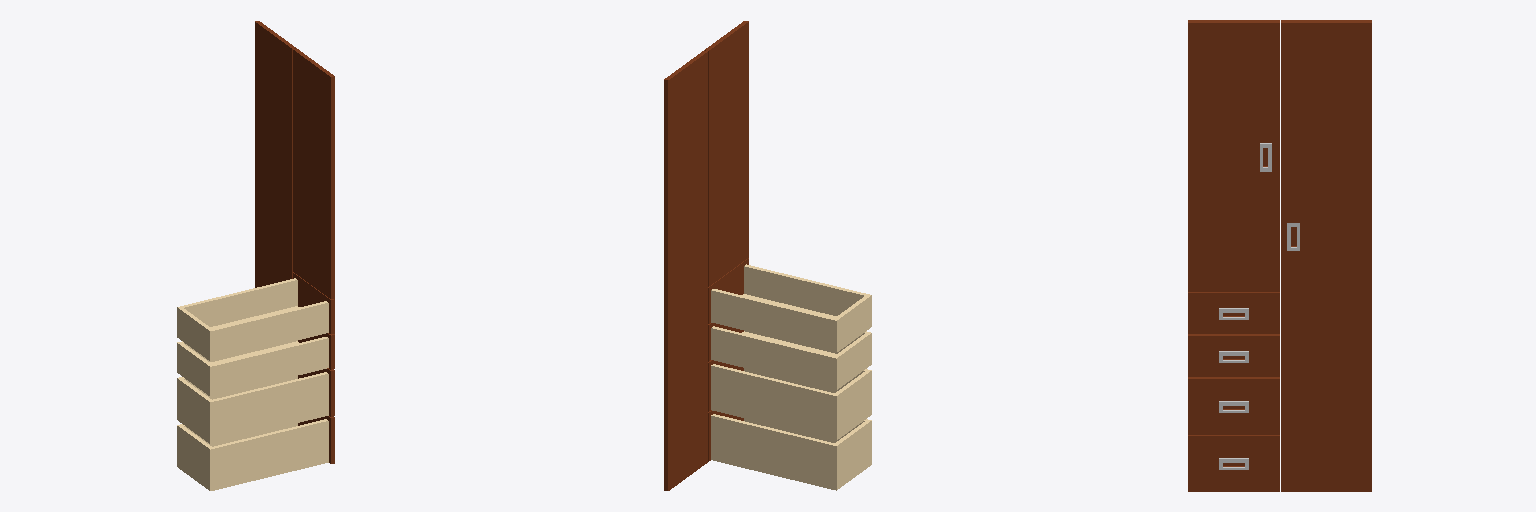
URDF robot description (square-600-closet):
<?xml version="1.0"?>
<robot name="square-600-closet"
       xmlns:xi="http://www.w3.org/2001/XInclude"
       xmlns:gazebo="http://playerstage.sourceforge.net/gazebo/xmlschema/#gz"
       xmlns:model="http://playerstage.sourceforge.net/gazebo/xmlschema/#model"
       xmlns:sensor="http://playerstage.sourceforge.net/gazebo/xmlschema/#sensor"
       xmlns:body="http://playerstage.sourceforge.net/gazebo/xmlschema/#body"
       xmlns:geom="http://playerstage.sourceforge.net/gazebo/xmlschema/#geom"
       xmlns:joint="http://playerstage.sourceforge.net/gazebo/xmlschema/#joint"
       xmlns:interface="http://playerstage.sourceforge.net/gazebo/xmlschema/#interface"
       xmlns:rendering="http://playerstage.sourceforge.net/gazebo/xmlschema/#rendering"
       xmlns:renderable="http://playerstage.sourceforge.net/gazebo/xmlschema/#renderable"
       xmlns:controller="http://playerstage.sourceforge.net/gazebo/xmlschema/#controller"
       xmlns:physics="http://playerstage.sourceforge.net/gazebo/xmlschema/#physics">
  <gazebo>
    <static>false</static>
  </gazebo>
  <link name="ROOT_link">
    <visual>
      <origin xyz="0 0 0" rpy="0 -0 0"/>
      <geometry>
        <mesh filename="model://square-600-closet/meshes/ROOT_link_mesh.dae" scale="1 1 1" />
      </geometry>
    </visual>
    <collision>
      <origin xyz="0 0 0" rpy="0 -0 0"/>
      <geometry>
        <mesh filename="model://square-600-closet/meshes/ROOT_link_mesh.dae" scale="1 1 1" />
      </geometry>
    </collision>
    <inertial>
      <mass value="0.001" />
      <origin xyz="0 0 0" rpy="0 -0 0"/>
      <inertia ixx="1e-09" ixy="0" ixz="0" iyy="1e-09" iyz="0" izz="1e-09"/>
    </inertial>
  </link>
  <gazebo reference="ROOT_link">
    <mu1>0.9</mu1>
    <mu2>0.9</mu2>
  </gazebo>
  <link name="SQUARE-600-CLOSET-BODYSET6_link">
    <visual>
      <origin xyz="0.281 -0.285 0.738" rpy="0 -0 0"/>
      <geometry>
        <mesh filename="model://square-600-closet/meshes/SQUARE-600-CLOSET-BODYSET6_link_mesh.dae" scale="1 1 1" />
      </geometry>
    </visual>
    <collision>
      <origin xyz="0.281 -0.285 0.738" rpy="0 -0 0"/>
      <geometry>
        <mesh filename="model://square-600-closet/meshes/SQUARE-600-CLOSET-BODYSET6_link_mesh.dae" scale="1 1 1" />
      </geometry>
    </collision>
    <inertial>
      <mass value="0.001" />
      <origin xyz="0 0 0" rpy="0 -0 0"/>
      <inertia ixx="1e-09" ixy="0" ixz="0" iyy="1e-09" iyz="0" izz="1e-09"/>
    </inertial>
  </link>
  <gazebo reference="SQUARE-600-CLOSET-BODYSET6_link">
    <mu1>0.9</mu1>
    <mu2>0.9</mu2>
  </gazebo>
  <link name="SQUARE-600-CLOSET-BODYSET7_link">
    <visual>
      <origin xyz="0.281 0.285 0.034" rpy="0 -0 0"/>
      <geometry>
        <mesh filename="model://square-600-closet/meshes/SQUARE-600-CLOSET-BODYSET7_link_mesh.dae" scale="1 1 1" />
      </geometry>
    </visual>
    <collision>
      <origin xyz="0.281 0.285 0.034" rpy="0 -0 0"/>
      <geometry>
        <mesh filename="model://square-600-closet/meshes/SQUARE-600-CLOSET-BODYSET7_link_mesh.dae" scale="1 1 1" />
      </geometry>
    </collision>
    <inertial>
      <mass value="0.001" />
      <origin xyz="0 0 0" rpy="0 -0 0"/>
      <inertia ixx="1e-09" ixy="0" ixz="0" iyy="1e-09" iyz="0" izz="1e-09"/>
    </inertial>
  </link>
  <gazebo reference="SQUARE-600-CLOSET-BODYSET7_link">
    <mu1>0.9</mu1>
    <mu2>0.9</mu2>
  </gazebo>
  <link name="SQUARE-600-CLOSET-BODYSET5_link">
    <visual>
      <origin xyz="0.008 -0.147 0.652" rpy="0 -0 0"/>
      <geometry>
        <mesh filename="model://square-600-closet/meshes/SQUARE-600-CLOSET-BODYSET5_link_mesh.dae" scale="1 1 1" />
      </geometry>
    </visual>
    <collision>
      <origin xyz="0.008 -0.147 0.652" rpy="0 -0 0"/>
      <geometry>
        <mesh filename="model://square-600-closet/meshes/SQUARE-600-CLOSET-BODYSET5_link_mesh.dae" scale="1 1 1" />
      </geometry>
    </collision>
    <inertial>
      <mass value="0.001" />
      <origin xyz="0 0 0" rpy="0 -0 0"/>
      <inertia ixx="1e-09" ixy="0" ixz="0" iyy="1e-09" iyz="0" izz="1e-09"/>
    </inertial>
  </link>
  <gazebo reference="SQUARE-600-CLOSET-BODYSET5_link">
    <mu1>0.9</mu1>
    <mu2>0.9</mu2>
  </gazebo>
  <link name="SQUARE-600-CLOSET-BODYSET4_link">
    <visual>
      <origin xyz="0.008 -0.147 0.501" rpy="0 -0 0"/>
      <geometry>
        <mesh filename="model://square-600-closet/meshes/SQUARE-600-CLOSET-BODYSET4_link_mesh.dae" scale="1 1 1" />
      </geometry>
    </visual>
    <collision>
      <origin xyz="0.008 -0.147 0.501" rpy="0 -0 0"/>
      <geometry>
        <mesh filename="model://square-600-closet/meshes/SQUARE-600-CLOSET-BODYSET4_link_mesh.dae" scale="1 1 1" />
      </geometry>
    </collision>
    <inertial>
      <mass value="0.001" />
      <origin xyz="0 0 0" rpy="0 -0 0"/>
      <inertia ixx="1e-09" ixy="0" ixz="0" iyy="1e-09" iyz="0" izz="1e-09"/>
    </inertial>
  </link>
  <gazebo reference="SQUARE-600-CLOSET-BODYSET4_link">
    <mu1>0.9</mu1>
    <mu2>0.9</mu2>
  </gazebo>
  <link name="SQUARE-600-CLOSET-BODYSET3_link">
    <visual>
      <origin xyz="0.008 -0.147 0.324" rpy="0 -0 0"/>
      <geometry>
        <mesh filename="model://square-600-closet/meshes/SQUARE-600-CLOSET-BODYSET3_link_mesh.dae" scale="1 1 1" />
      </geometry>
    </visual>
    <collision>
      <origin xyz="0.008 -0.147 0.324" rpy="0 -0 0"/>
      <geometry>
        <mesh filename="model://square-600-closet/meshes/SQUARE-600-CLOSET-BODYSET3_link_mesh.dae" scale="1 1 1" />
      </geometry>
    </collision>
    <inertial>
      <mass value="0.001" />
      <origin xyz="0 0 0" rpy="0 -0 0"/>
      <inertia ixx="1e-09" ixy="0" ixz="0" iyy="1e-09" iyz="0" izz="1e-09"/>
    </inertial>
  </link>
  <gazebo reference="SQUARE-600-CLOSET-BODYSET3_link">
    <mu1>0.9</mu1>
    <mu2>0.9</mu2>
  </gazebo>
  <link name="SQUARE-600-CLOSET-BODYSET2_link">
    <visual>
      <origin xyz="0.008 -0.147 0.123" rpy="0 -0 0"/>
      <geometry>
        <mesh filename="model://square-600-closet/meshes/SQUARE-600-CLOSET-BODYSET2_link_mesh.dae" scale="1 1 1" />
      </geometry>
    </visual>
    <collision>
      <origin xyz="0.008 -0.147 0.123" rpy="0 -0 0"/>
      <geometry>
        <mesh filename="model://square-600-closet/meshes/SQUARE-600-CLOSET-BODYSET2_link_mesh.dae" scale="1 1 1" />
      </geometry>
    </collision>
    <inertial>
      <mass value="0.001" />
      <origin xyz="0 0 0" rpy="0 -0 0"/>
      <inertia ixx="1e-09" ixy="0" ixz="0" iyy="1e-09" iyz="0" izz="1e-09"/>
    </inertial>
  </link>
  <gazebo reference="SQUARE-600-CLOSET-BODYSET2_link">
    <mu1>0.9</mu1>
    <mu2>0.9</mu2>
  </gazebo>
  <joint name="DOOR-LEFT" type="revolute">
    <parent link="ROOT_link"/>
    <child  link="SQUARE-600-CLOSET-BODYSET6_link"/>
    <origin xyz="0.281 -0.285 0.738" rpy="0 -0 0 "/>
    <axis   xyz="0 0 -1"/>
    <limit lower="0" upper="1.5708" effort="100" velocity="0.5" />
    <dynamics damping="0.2" friction="0" />
  </joint>
  <transmission type="pr2_mechanism_model/SimpleTransmission" name="DOOR-LEFT_trans" >
    <actuator name="DOOR-LEFT_motor" />
    <joint name="DOOR-LEFT" />
    <mechanicalReduction>1</mechanicalReduction>
  </transmission>
  <gazebo reference="DOOR-LEFT">
    <cfmDamping>0.4</cfmDamping>
  </gazebo>
  <joint name="DOOR-RIGHT" type="revolute">
    <parent link="ROOT_link"/>
    <child  link="SQUARE-600-CLOSET-BODYSET7_link"/>
    <origin xyz="0.281 0.285 0.034" rpy="0 -0 0 "/>
    <axis   xyz="0 0 1"/>
    <limit lower="0" upper="1.5708" effort="100" velocity="0.5" />
    <dynamics damping="0.2" friction="0" />
  </joint>
  <transmission type="pr2_mechanism_model/SimpleTransmission" name="DOOR-RIGHT_trans" >
    <actuator name="DOOR-RIGHT_motor" />
    <joint name="DOOR-RIGHT" />
    <mechanicalReduction>1</mechanicalReduction>
  </transmission>
  <gazebo reference="DOOR-RIGHT">
    <cfmDamping>0.4</cfmDamping>
  </gazebo>
  <joint name="DRAWER1" type="prismatic">
    <parent link="ROOT_link"/>
    <child  link="SQUARE-600-CLOSET-BODYSET5_link"/>
    <origin xyz="0.008 -0.147 0.652" rpy="0 -0 0 "/>
    <axis   xyz="1 0 0"/>
    <limit lower="0" upper="0.564" effort="100" velocity="0.01" />
    <dynamics damping="0.2" friction="0" />
  </joint>
  <transmission type="pr2_mechanism_model/SimpleTransmission" name="DRAWER1_trans" >
    <actuator name="DRAWER1_motor" />
    <joint name="DRAWER1" />
    <mechanicalReduction>1</mechanicalReduction>
  </transmission>
  <gazebo reference="DRAWER1">
    <cfmDamping>0.4</cfmDamping>
  </gazebo>
  <joint name="DRAWER2" type="prismatic">
    <parent link="ROOT_link"/>
    <child  link="SQUARE-600-CLOSET-BODYSET4_link"/>
    <origin xyz="0.008 -0.147 0.501" rpy="0 -0 0 "/>
    <axis   xyz="1 0 0"/>
    <limit lower="0" upper="0.564" effort="100" velocity="0.01" />
    <dynamics damping="0.2" friction="0" />
  </joint>
  <transmission type="pr2_mechanism_model/SimpleTransmission" name="DRAWER2_trans" >
    <actuator name="DRAWER2_motor" />
    <joint name="DRAWER2" />
    <mechanicalReduction>1</mechanicalReduction>
  </transmission>
  <gazebo reference="DRAWER2">
    <cfmDamping>0.4</cfmDamping>
  </gazebo>
  <joint name="DRAWER3" type="prismatic">
    <parent link="ROOT_link"/>
    <child  link="SQUARE-600-CLOSET-BODYSET3_link"/>
    <origin xyz="0.008 -0.147 0.324" rpy="0 -0 0 "/>
    <axis   xyz="1 0 0"/>
    <limit lower="0" upper="0.564" effort="100" velocity="0.01" />
    <dynamics damping="0.2" friction="0" />
  </joint>
  <transmission type="pr2_mechanism_model/SimpleTransmission" name="DRAWER3_trans" >
    <actuator name="DRAWER3_motor" />
    <joint name="DRAWER3" />
    <mechanicalReduction>1</mechanicalReduction>
  </transmission>
  <gazebo reference="DRAWER3">
    <cfmDamping>0.4</cfmDamping>
  </gazebo>
  <joint name="DRAWER4" type="prismatic">
    <parent link="ROOT_link"/>
    <child  link="SQUARE-600-CLOSET-BODYSET2_link"/>
    <origin xyz="0.008 -0.147 0.123" rpy="0 -0 0 "/>
    <axis   xyz="1 0 0"/>
    <limit lower="0" upper="0.564" effort="100" velocity="0.01" />
    <dynamics damping="0.2" friction="0" />
  </joint>
  <transmission type="pr2_mechanism_model/SimpleTransmission" name="DRAWER4_trans" >
    <actuator name="DRAWER4_motor" />
    <joint name="DRAWER4" />
    <mechanicalReduction>1</mechanicalReduction>
  </transmission>
  <gazebo reference="DRAWER4">
    <cfmDamping>0.4</cfmDamping>
  </gazebo>
</robot>

--- Render facts (derived) ---
Views: 3 orthographic renders of the robot side by side, from view 1: azimuth 30°, elevation 25°; view 2: azimuth 150°, elevation 25°; view 3: azimuth 270°, elevation 25°.
Robot: square-600-closet — 7 links, 6 joints (2 revolute, 4 prismatic); root link ROOT_link; default pose: every joint at zero.
Links seen in each view (by area): view 1: SQUARE-600-CLOSET-BODYSET7_link, SQUARE-600-CLOSET-BODYSET6_link, SQUARE-600-CLOSET-BODYSET5_link, SQUARE-600-CLOSET-BODYSET3_link, SQUARE-600-CLOSET-BODYSET2_link, SQUARE-600-CLOSET-BODYSET4_link; view 2: SQUARE-600-CLOSET-BODYSET7_link, SQUARE-600-CLOSET-BODYSET6_link, SQUARE-600-CLOSET-BODYSET5_link, SQUARE-600-CLOSET-BODYSET3_link, SQUARE-600-CLOSET-BODYSET2_link, SQUARE-600-CLOSET-BODYSET4_link; view 3: SQUARE-600-CLOSET-BODYSET7_link, SQUARE-600-CLOSET-BODYSET6_link, SQUARE-600-CLOSET-BODYSET3_link, SQUARE-600-CLOSET-BODYSET2_link, SQUARE-600-CLOSET-BODYSET4_link, SQUARE-600-CLOSET-BODYSET5_link.
Link boxes in pixels (x1,y1,x2,y2): SQUARE-600-CLOSET-BODYSET7_link: (255, 21, 295, 287); SQUARE-600-CLOSET-BODYSET6_link: (293, 48, 334, 298); SQUARE-600-CLOSET-BODYSET5_link: (177, 272, 334, 361); SQUARE-600-CLOSET-BODYSET3_link: (177, 368, 334, 443); SQUARE-600-CLOSET-BODYSET2_link: (177, 416, 334, 490); SQUARE-600-CLOSET-BODYSET4_link: (177, 333, 334, 396); SQUARE-600-CLOSET-BODYSET7_link: (664, 50, 707, 490); SQUARE-600-CLOSET-BODYSET6_link: (705, 21, 748, 286); SQUARE-600-CLOSET-BODYSET5_link: (708, 258, 871, 352); SQUARE-600-CLOSET-BODYSET3_link: (708, 360, 871, 440); SQUARE-600-CLOSET-BODYSET2_link: (708, 410, 871, 490); SQUARE-600-CLOSET-BODYSET4_link: (708, 323, 871, 389); SQUARE-600-CLOSET-BODYSET7_link: (1281, 20, 1371, 491); SQUARE-600-CLOSET-BODYSET6_link: (1188, 20, 1279, 291); SQUARE-600-CLOSET-BODYSET3_link: (1188, 377, 1279, 434); SQUARE-600-CLOSET-BODYSET2_link: (1188, 435, 1279, 491); SQUARE-600-CLOSET-BODYSET4_link: (1188, 334, 1279, 376); SQUARE-600-CLOSET-BODYSET5_link: (1188, 292, 1279, 333).
Bounding box of the posed robot: 0.551 × 0.5885 × 1.65 m (x, y, z).
6 mesh visuals loaded from 7 distinct referenced files (6 Collada DAE); not drawn: 1 (reference not matched to a file when rendering).
